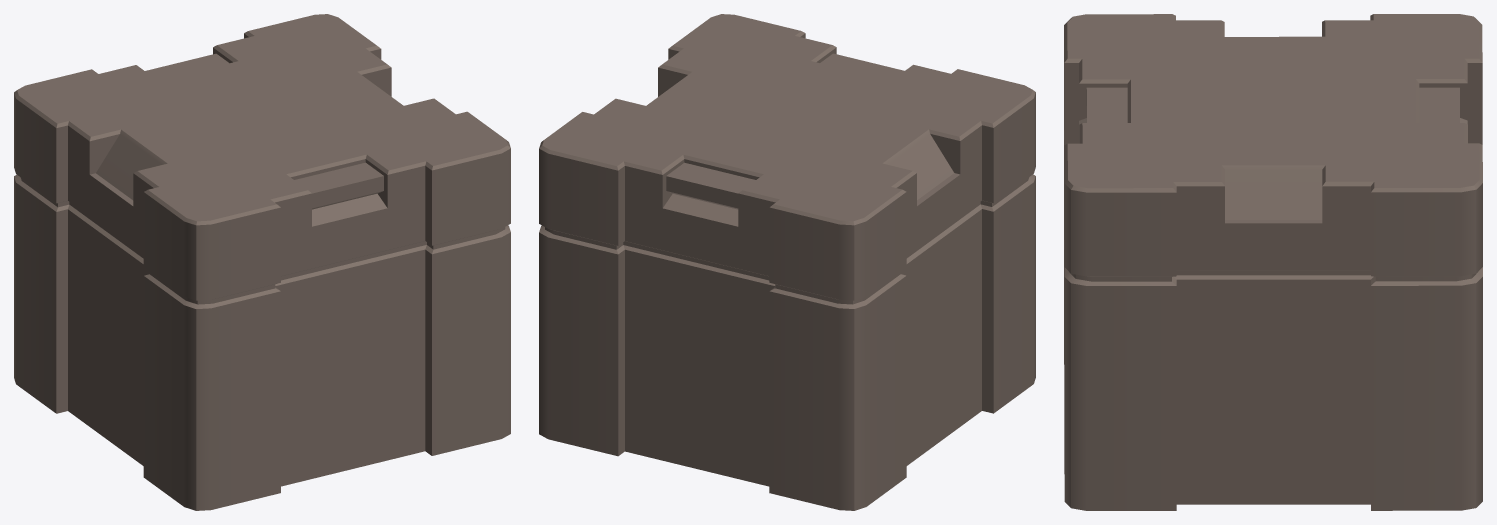
The model's file is Little_box.fbx.
The picture shows the model from 3 angles, left to right: view 1: azimuth 30°, elevation 25°; view 2: azimuth 150°, elevation 25°; view 3: azimuth 270°, elevation 25°; orthographic projection. The views are drawn at different scales.
Parts seen in each view (by area): view 1: Little_box; view 2: Little_box; view 3: Little_box.
Boxes of the visible parts, box(x1,y1,x2,y2) form: Little_box: box(14, 14, 510, 510); Little_box: box(539, 14, 1035, 510); Little_box: box(1064, 14, 1482, 510).
Bounding box in the file's own units: 136 × 115 × 136.
